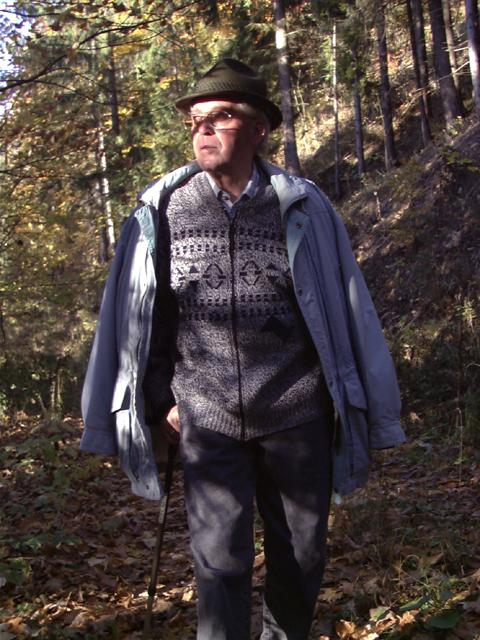Person: (88, 61, 406, 640)
